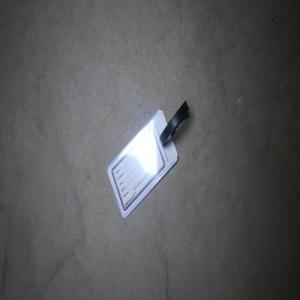LuggageTag: (105, 99, 189, 220)
